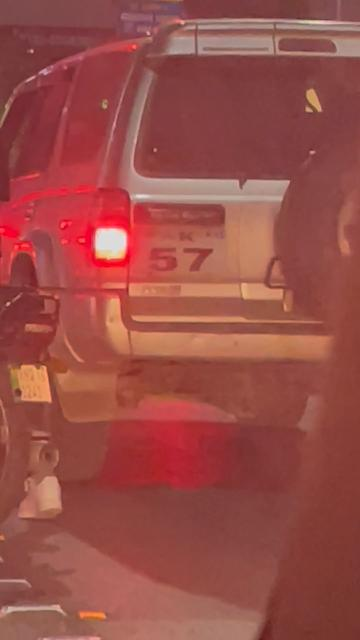plate: (7, 364, 56, 404)
